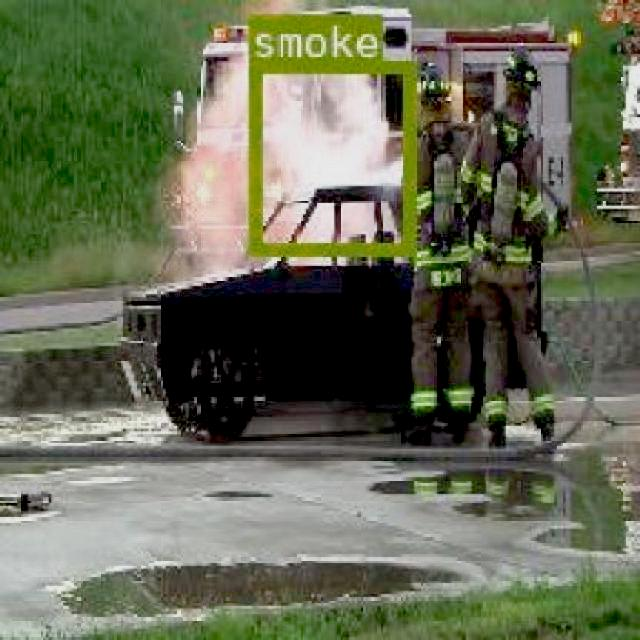smoke: (248, 57, 412, 254)
